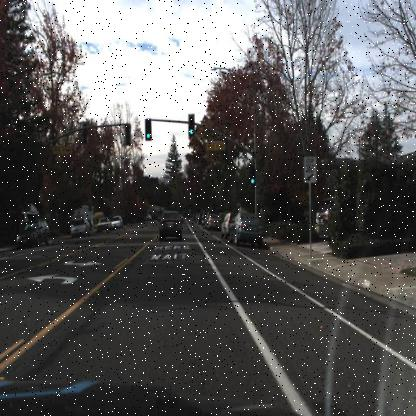car: (228, 208, 265, 249), (15, 216, 49, 251), (318, 196, 340, 249), (156, 208, 184, 244), (219, 210, 238, 242), (70, 218, 90, 238), (206, 210, 222, 232), (96, 215, 111, 234), (111, 216, 122, 230)
trafficLight-Green: (144, 117, 152, 143), (188, 113, 196, 138), (144, 117, 152, 141), (248, 163, 256, 186)
